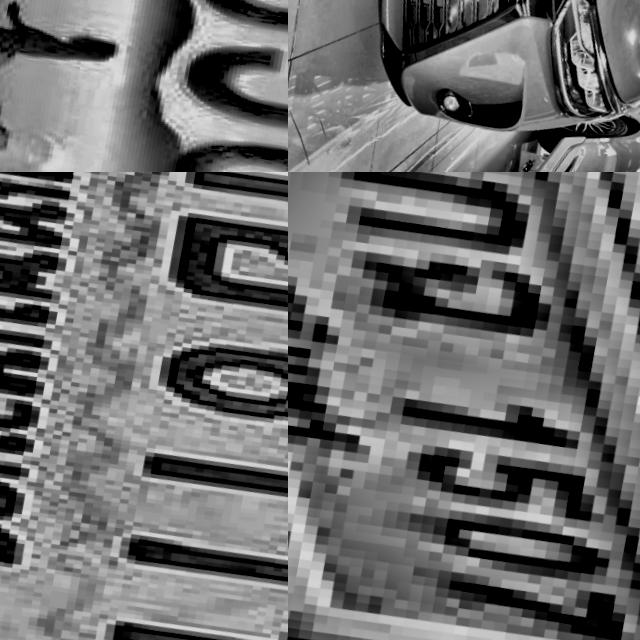license-plate: (288, 172, 640, 640), (0, 172, 288, 640), (0, 0, 288, 172)
